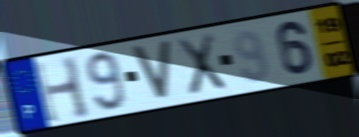6: (275, 19, 315, 78)
9: (83, 48, 130, 113), (233, 28, 270, 85)
H: (31, 53, 94, 126)
V: (129, 40, 174, 102)
X: (174, 31, 229, 98)
